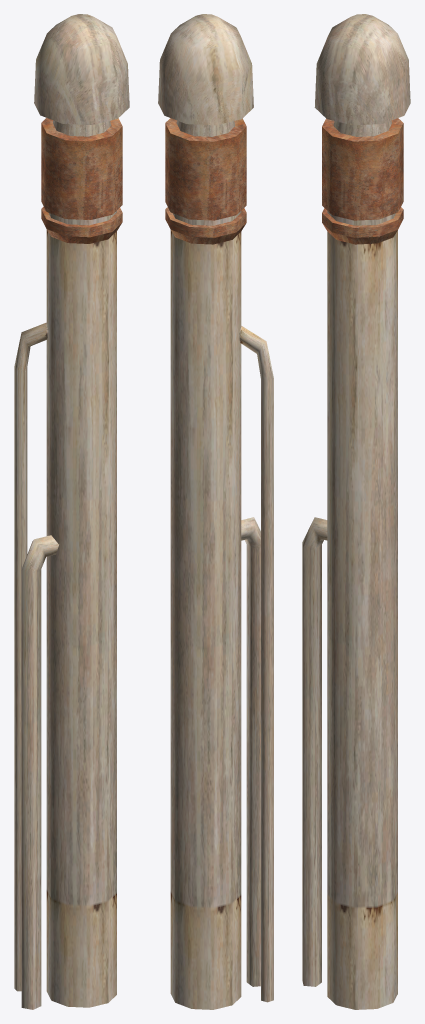
The model's file is thm_tato_debris_s03_l0.fbx.
3 views of the same model, side by side, from view 1: azimuth 30°, elevation 25°; view 2: azimuth 210°, elevation 25°; view 3: azimuth 330°, elevation 25° (orthographic).
Visible parts, largest first — view 1: mesh_node; view 2: mesh_node; view 3: mesh_node.
Boxes of the visible parts, x1=… form: mesh_node: x1=14, y1=14, x2=129, y2=1009; mesh_node: x1=158, y1=14, x2=273, y2=1009; mesh_node: x1=302, y1=14, x2=410, y2=1009.
Size of the model in its own units: 0.4615 by 4.21 by 0.3586.
Materials: 2 (2 with a texture image).
